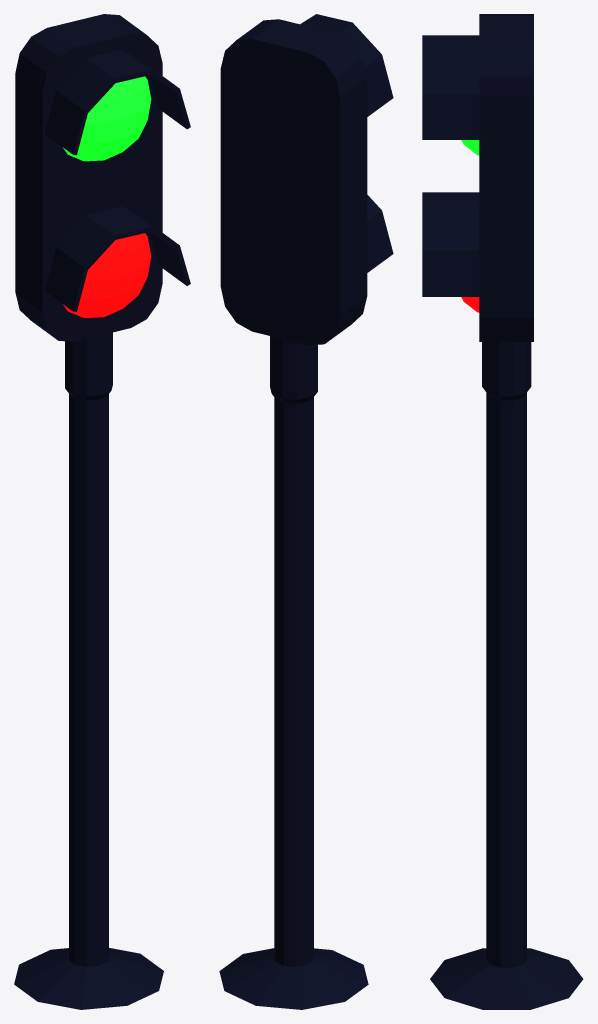
The model's file is traffic light.fbx.
3 views of the same model, side by side, from view 1: azimuth 30°, elevation 25°; view 2: azimuth 150°, elevation 25°; view 3: azimuth 270°, elevation 25° (orthographic).
Parts seen in each view (by area): view 1: traffic light; view 2: traffic light; view 3: traffic light.
Part boxes in pixels (<box>): traffic light: <box>14,14,190,1009</box>; traffic light: <box>219,14,393,1009</box>; traffic light: <box>422,14,583,1009</box>.
Bounding box in the file's own units: 187 × 1342 × 207.
